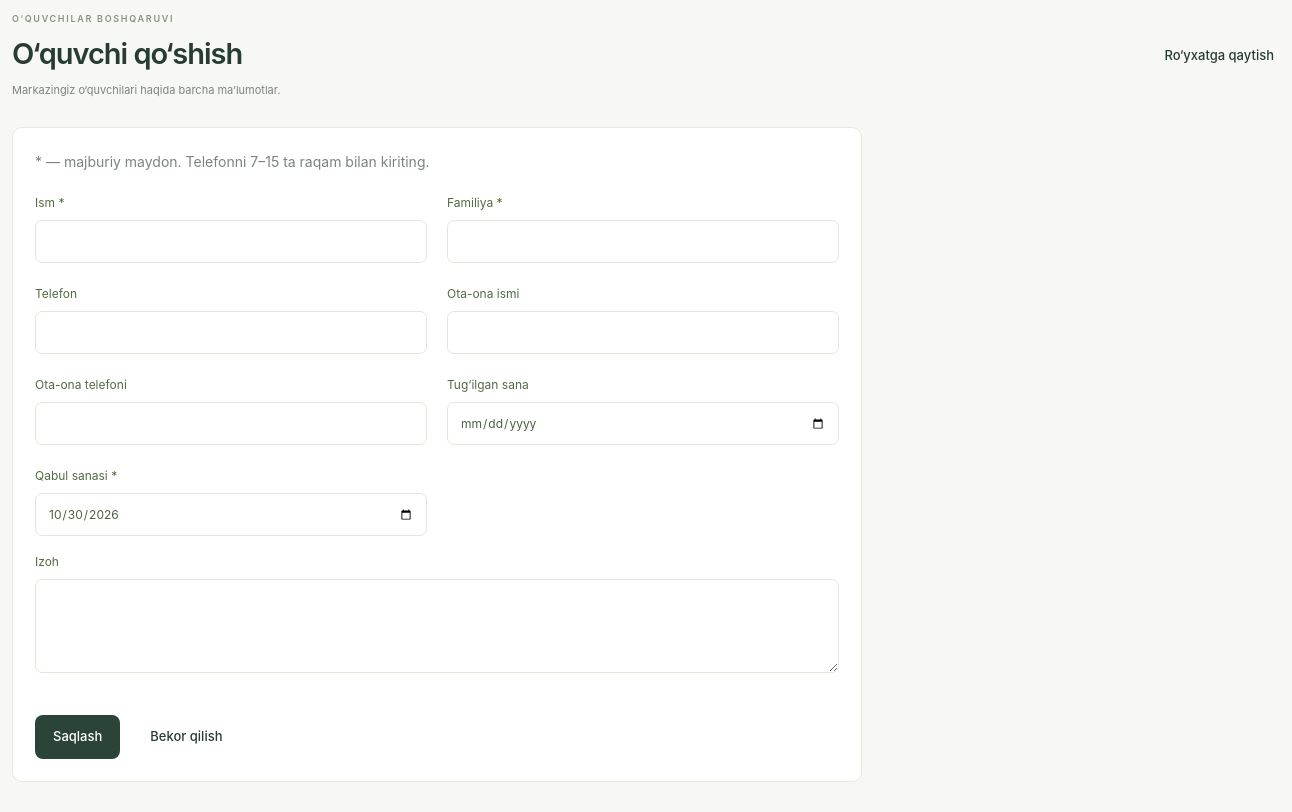
it: submits only student fields with cookie authentication and shows success
Type "Sinov" into the field labelled "Ism *" at {"x": 231, "y": 242}, box [35,220,427,263]
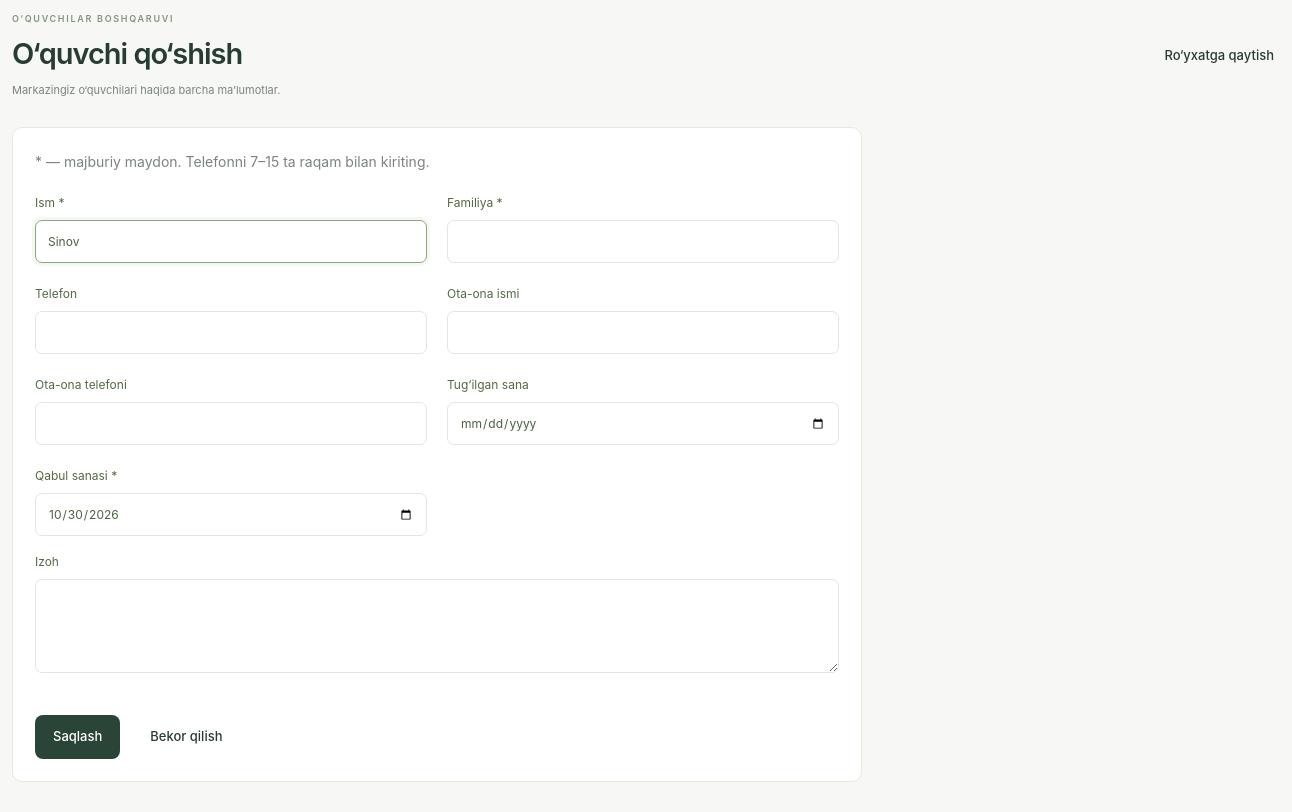
Type "O‘quvchi" into the field labelled "Familiya *" at {"x": 643, "y": 242}, box [447,220,839,263]
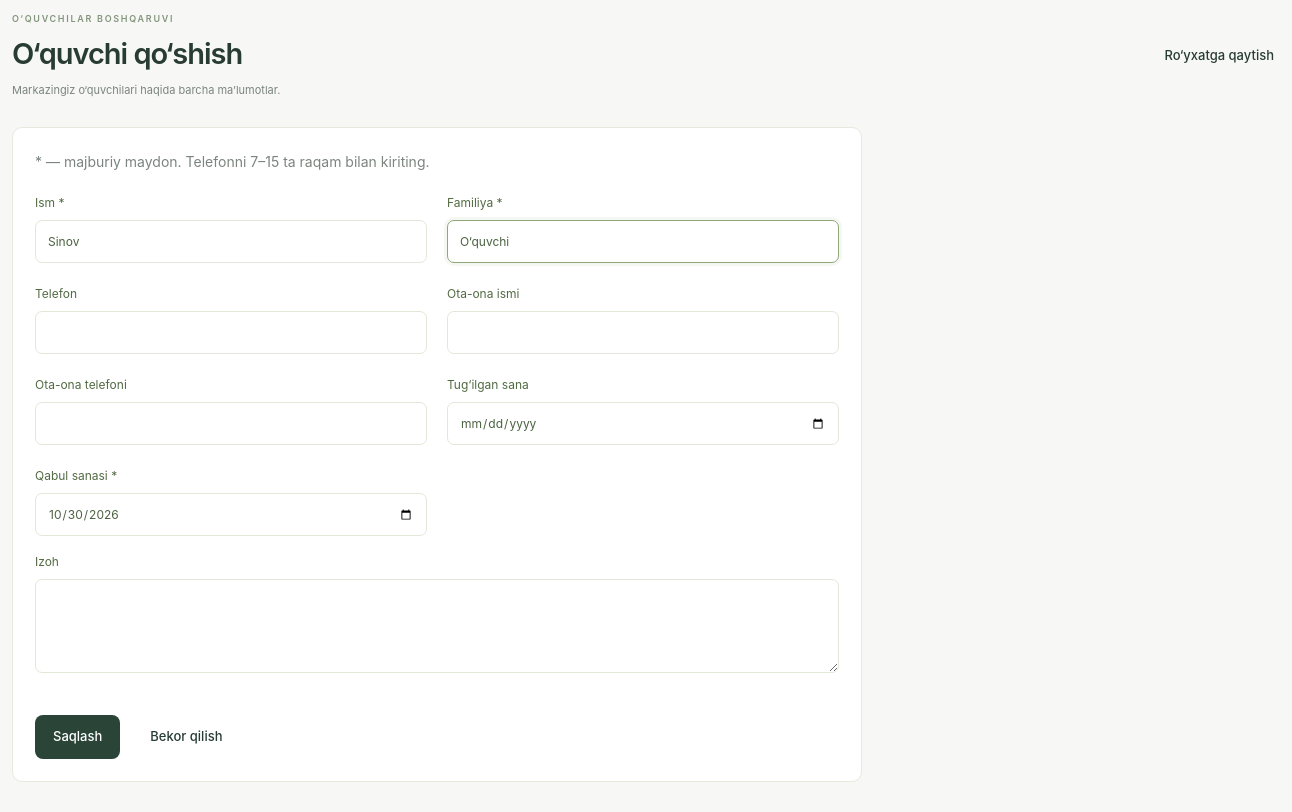
Click the button "Saqlash" at {"x": 78, "y": 737}, box [35,715,120,759]
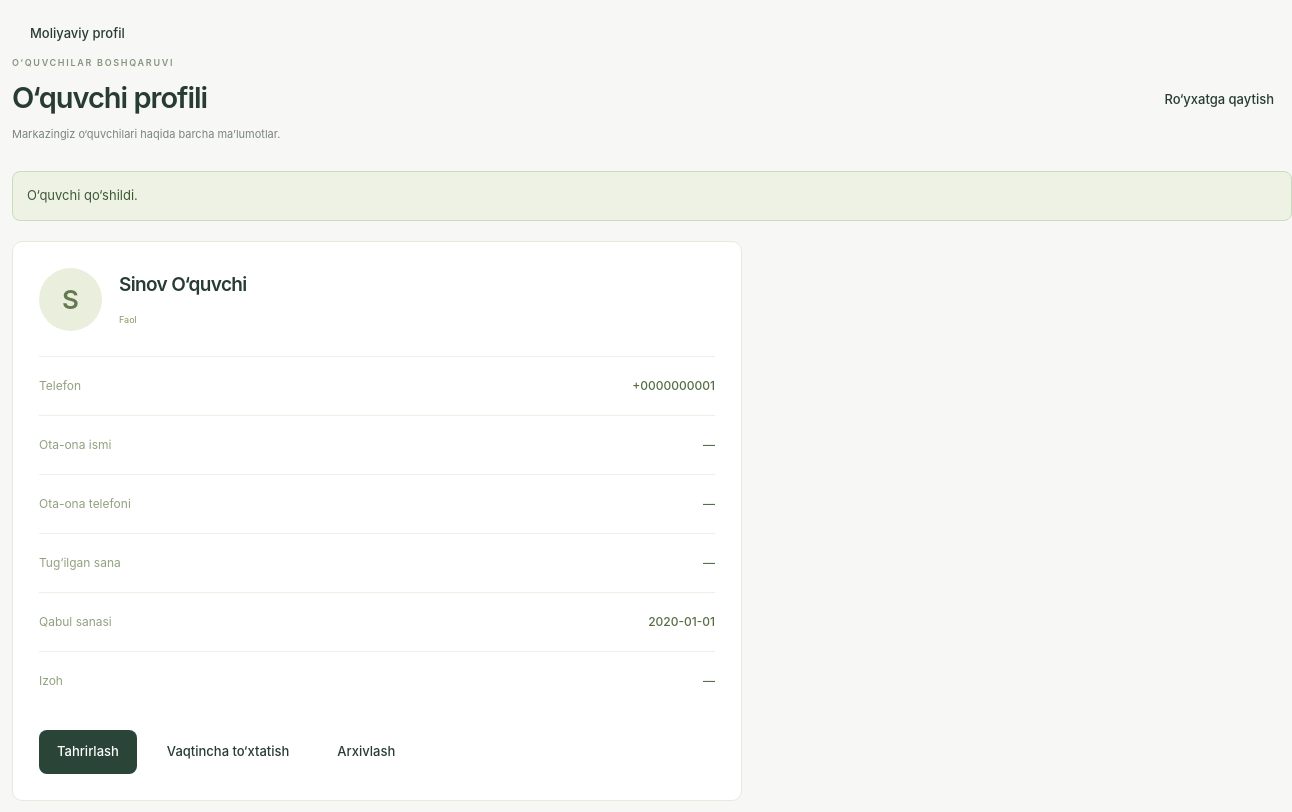
Expected: the message reads "O‘quvchi qo‘shildi.", [27,187,138,203]
